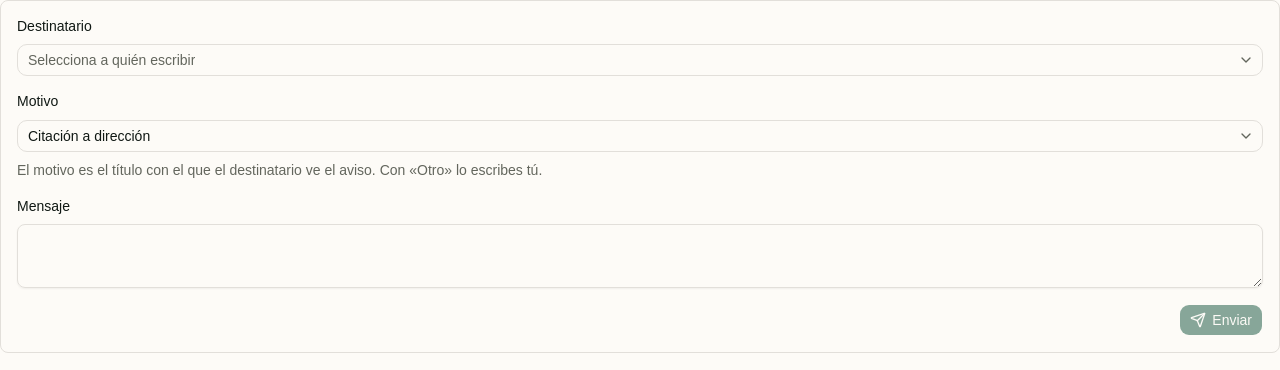
Test: ComposeNotification › offers the teachers and the secretary
The width and height of the screenshot is (1280, 370).
Click the dropdown named "destinatario".
click(112, 60)  # box [17, 44, 1263, 76]
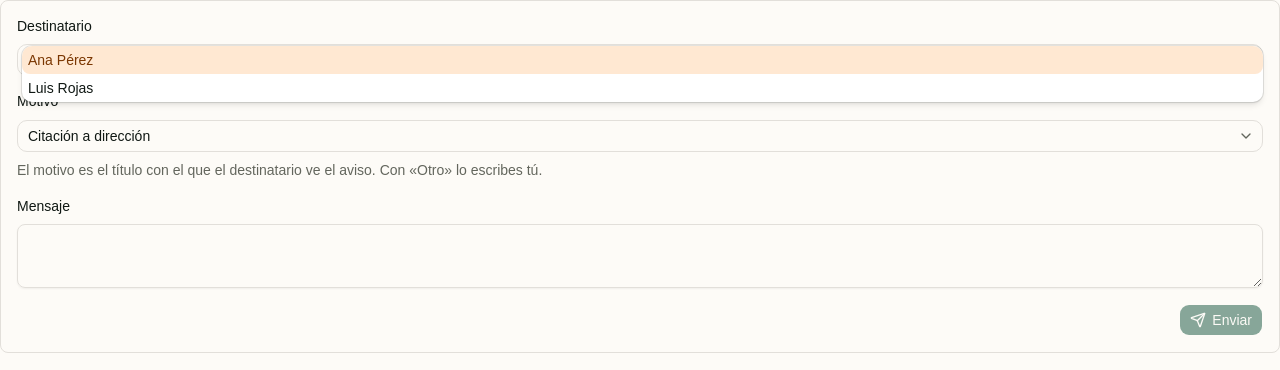
expect the option "Ana Pérez" is shown: met, box [22, 46, 1263, 74]
expect the option "Luis Rojas" is shown: met, box [28, 80, 93, 96]
